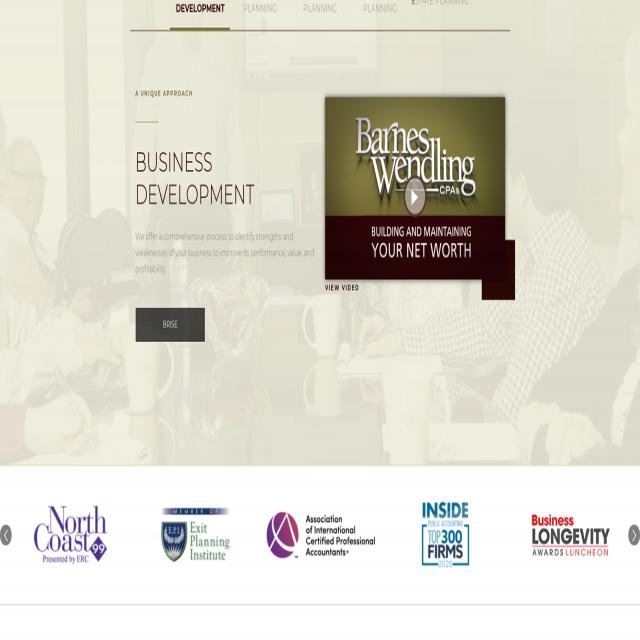button: (325, 97, 505, 279), (386, 502, 505, 568), (12, 502, 130, 568), (137, 502, 255, 568), (262, 502, 380, 568), (516, 501, 622, 570), (135, 308, 205, 342), (404, 176, 427, 216), (628, 524, 640, 546), (0, 525, 12, 545)
